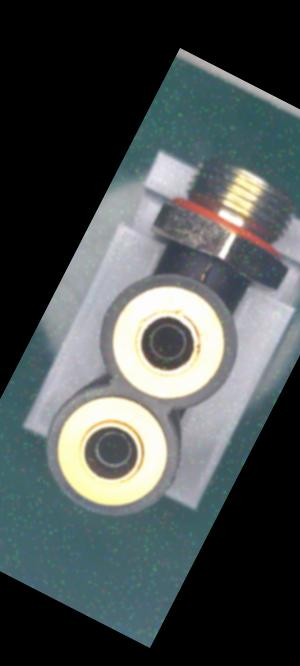craze: (191, 250, 222, 289)
